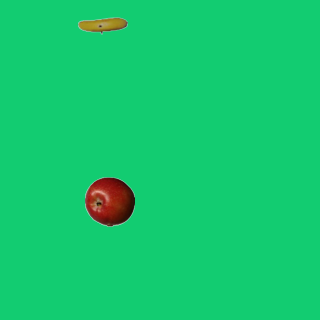Apple Braeburn: (84, 176, 134, 226)
Banana: (77, 0, 127, 50)
